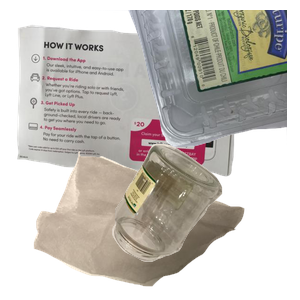glass: (110, 141, 300, 300)
paper: (14, 22, 247, 191)
plastic: (60, 10, 300, 149)
trash: (31, 149, 268, 300)
